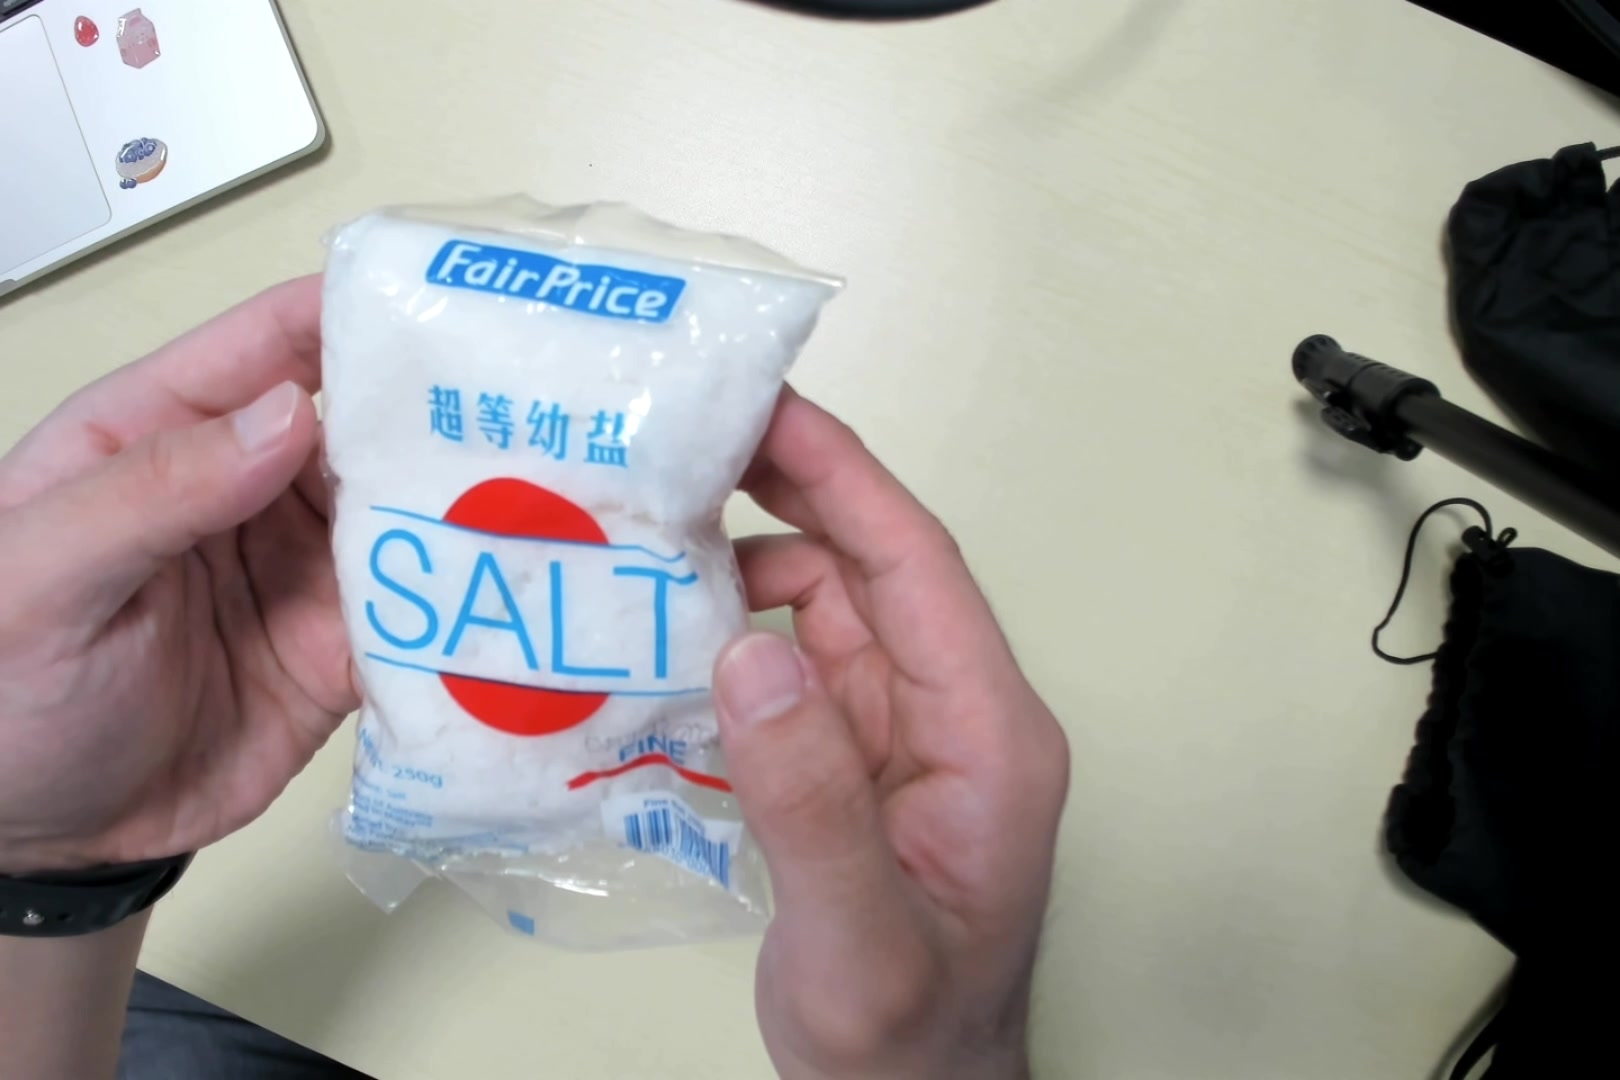Salt_200-299g_Halal_NonHealthy: (315, 202, 775, 937)
